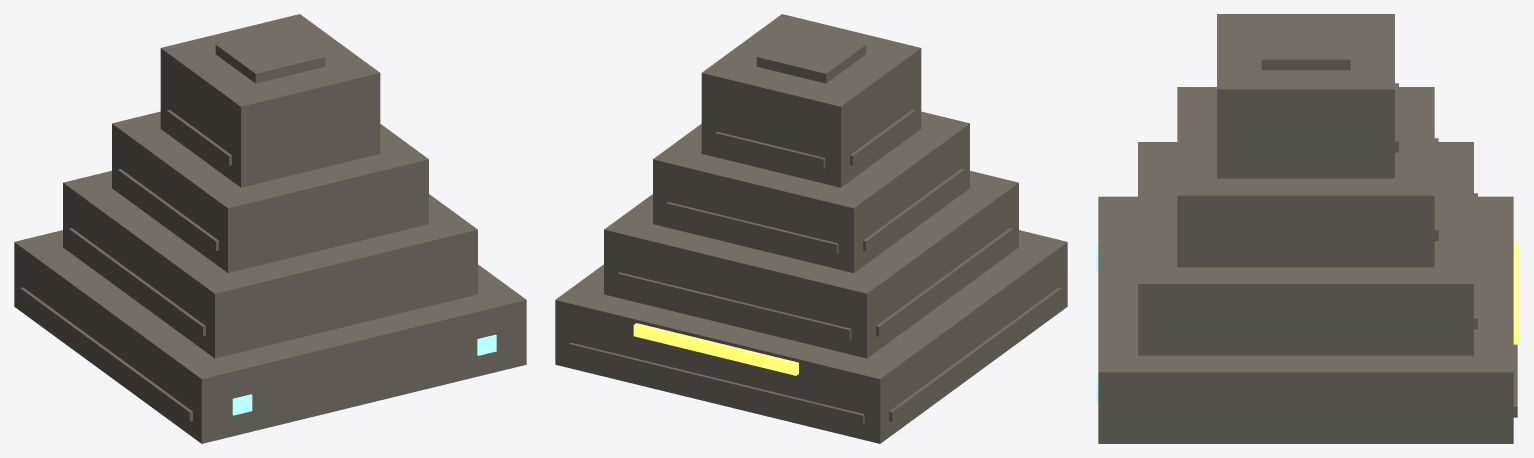
The model's file is bank_lod0-hPxyMhnC.glb.
3 renders of one model, left to right at view 1: azimuth 30°, elevation 25°; view 2: azimuth 150°, elevation 25°; view 3: azimuth 270°, elevation 25°, orthographic. The views are drawn at different scales.
Parts seen in each view (by area): view 1: body, window; view 2: body, sign; view 3: body, sign.
Boxes of the visible parts, x1,y1,x2,y2 form: body: (14,14,526,443); window: (232,334,496,415); body: (555,14,1067,443); sign: (633,323,798,375); body: (1098,14,1517,443); sign: (1513,244,1519,344).
Size of the model in its own units: 0.848 by 0.704 by 0.856.
